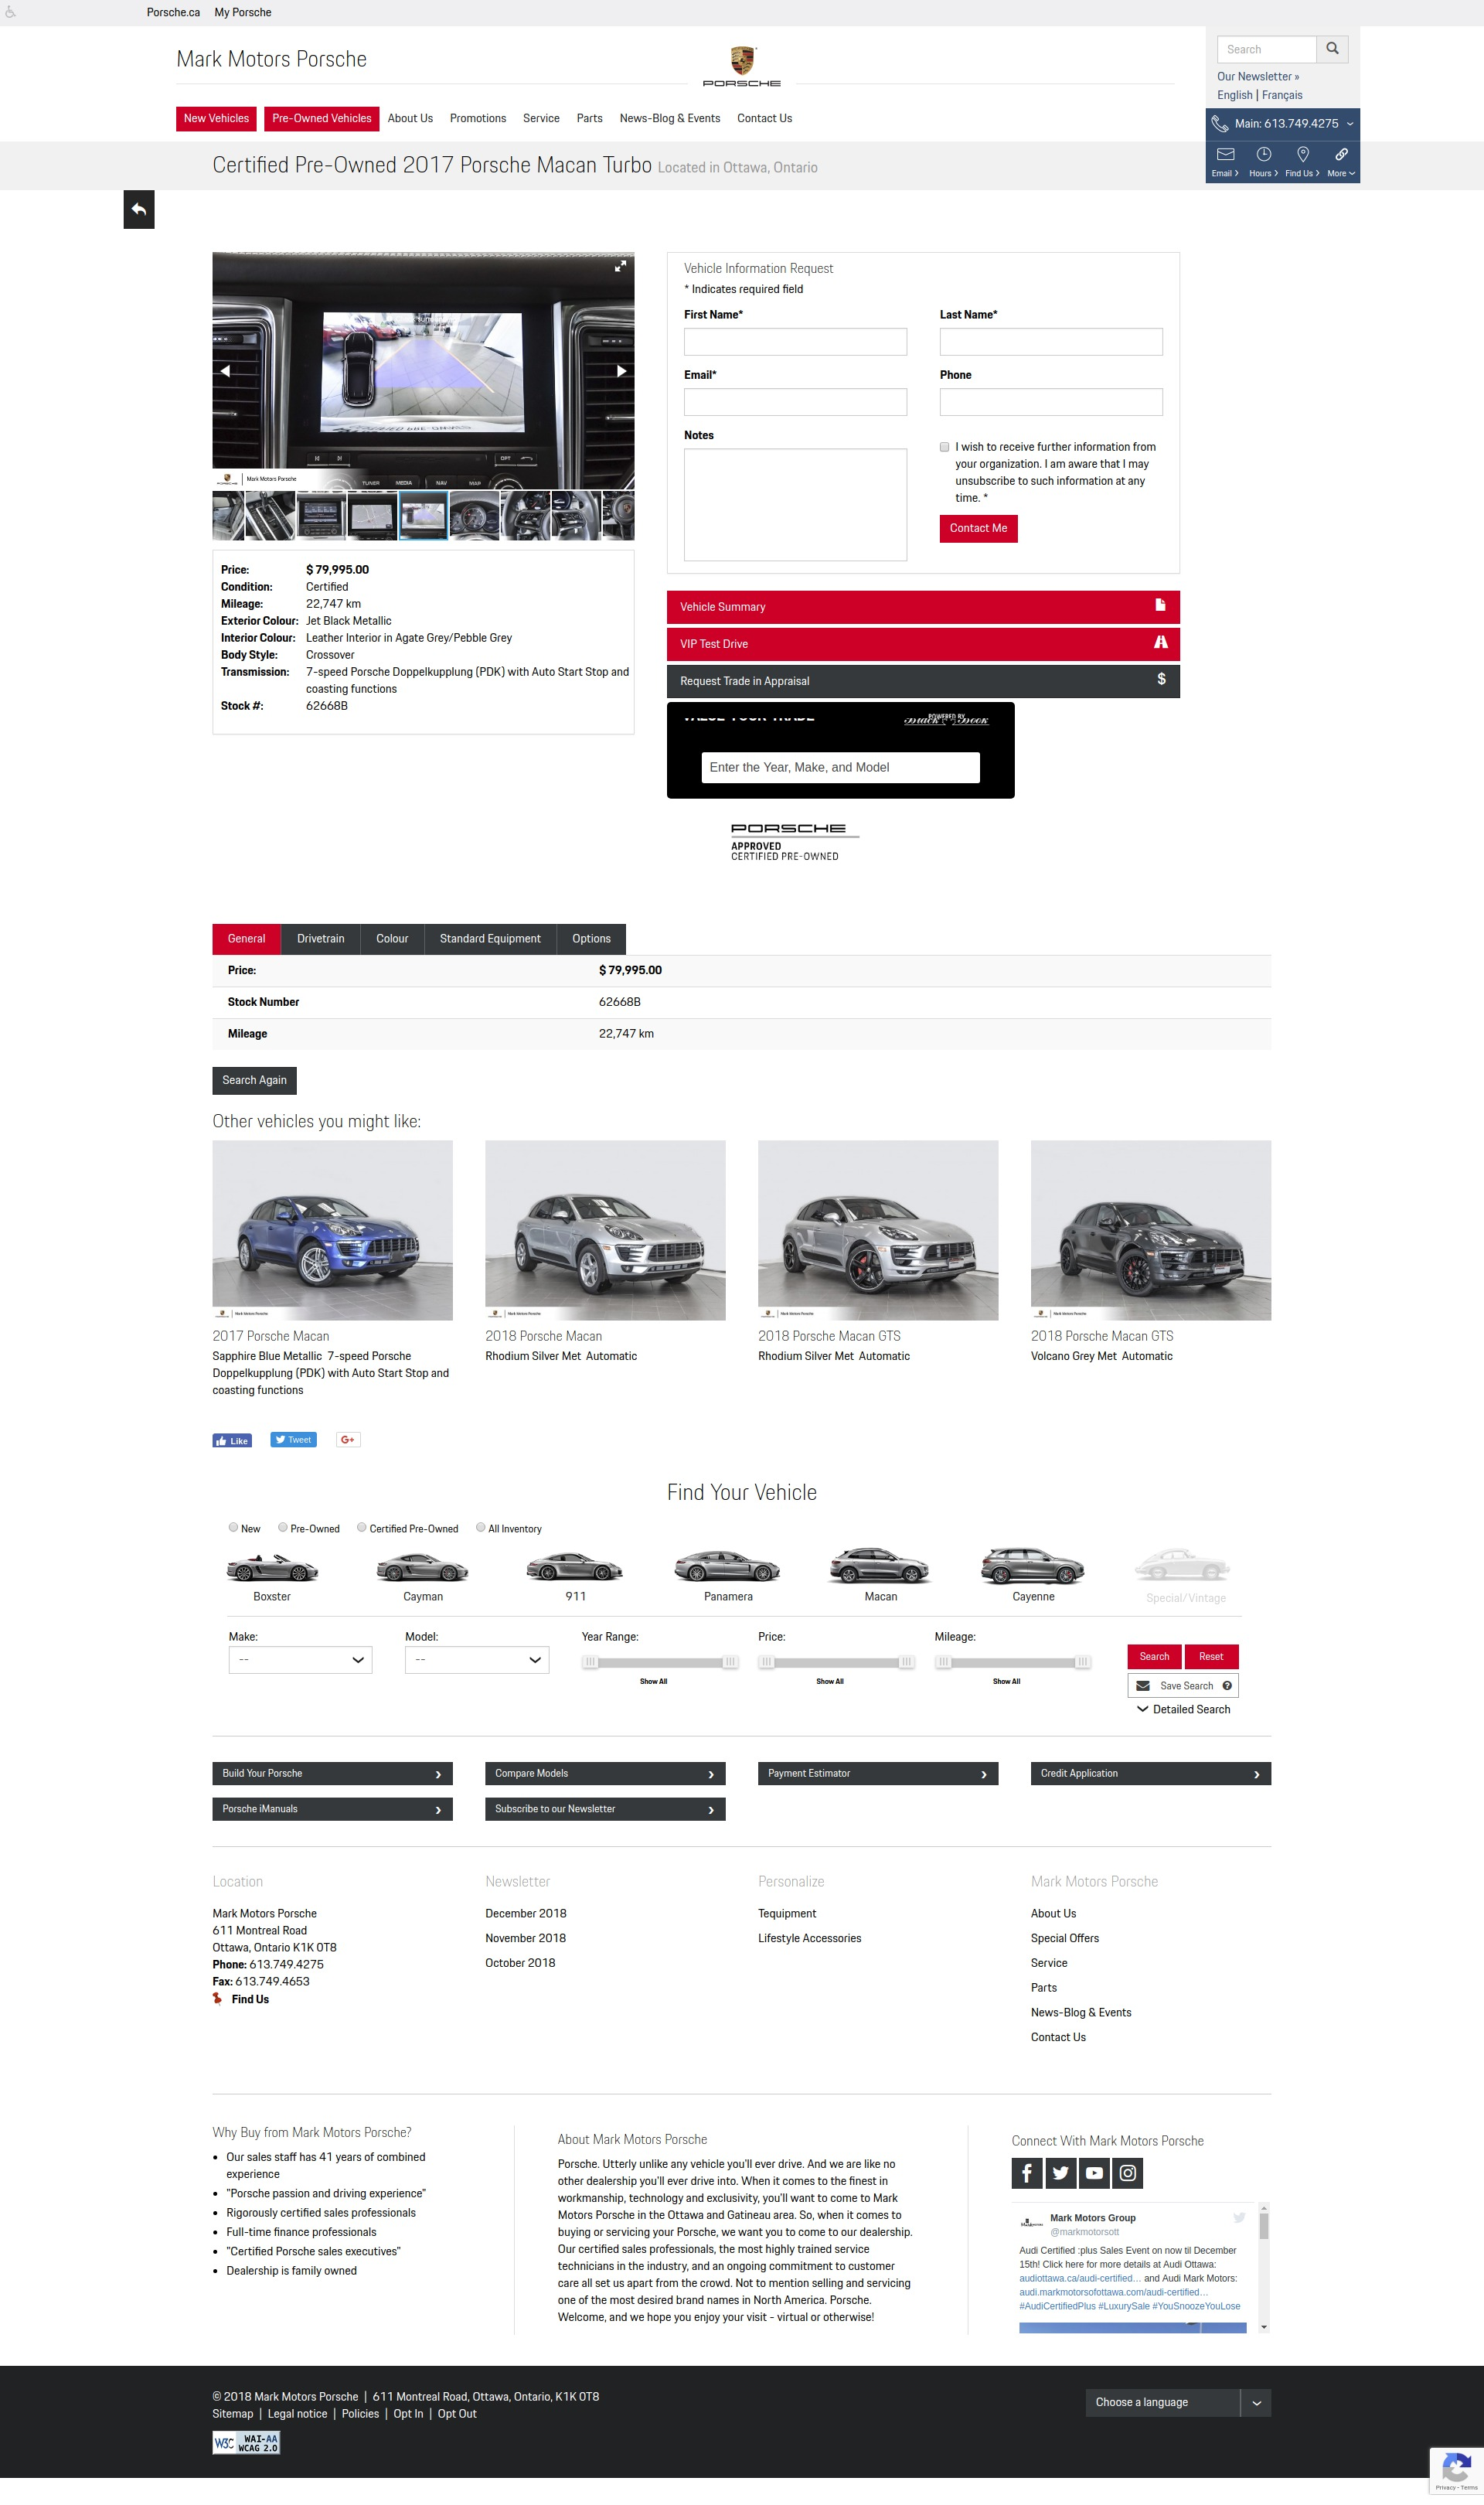car: (618, 366, 629, 378)
